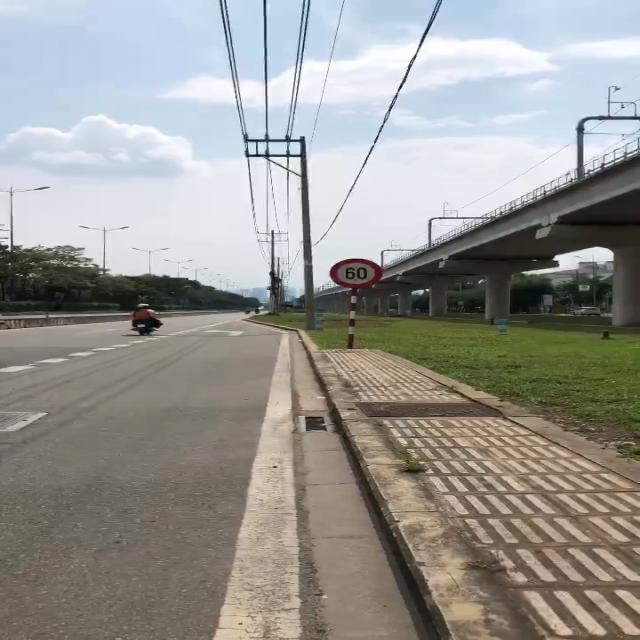Bien bao toc do toi da cho phep: (325, 255, 392, 294)
